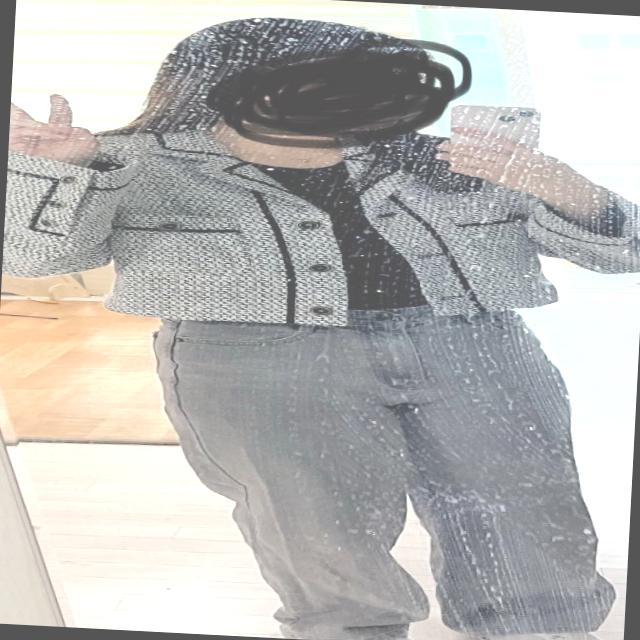blazer: (0, 112, 640, 345)
denimpants: (142, 282, 632, 640)
